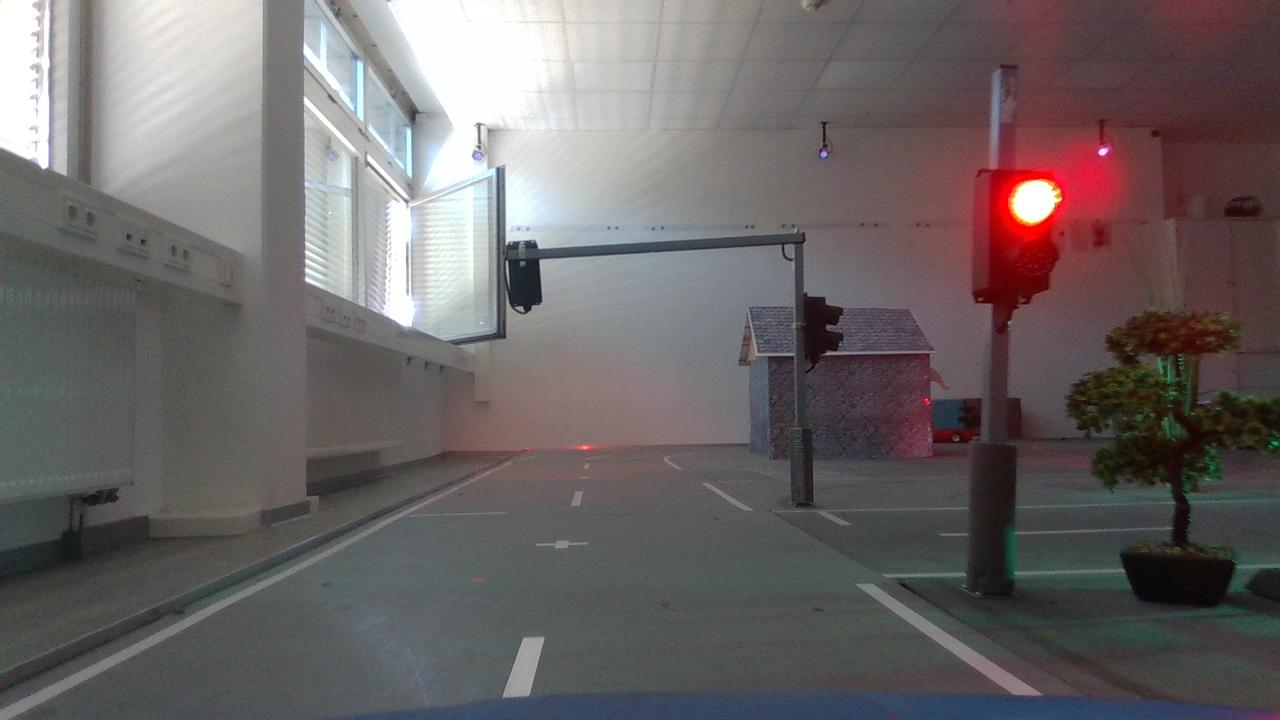traffic_light_red: (959, 151, 1067, 323)
